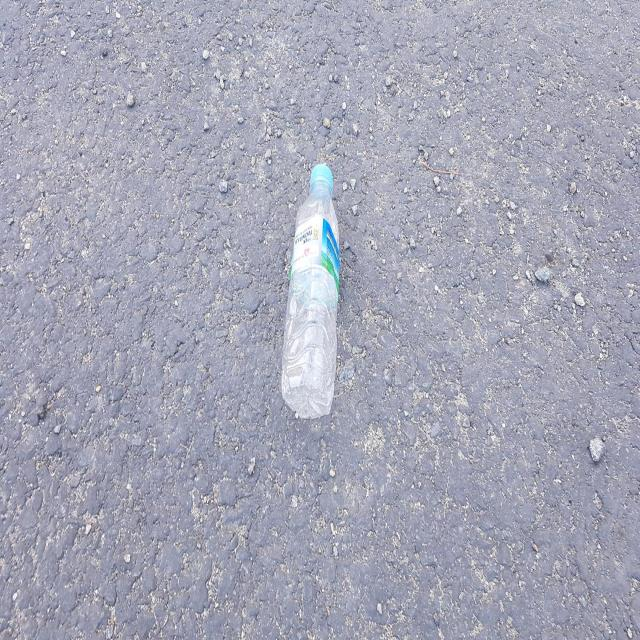plastic: (281, 163, 340, 418)
